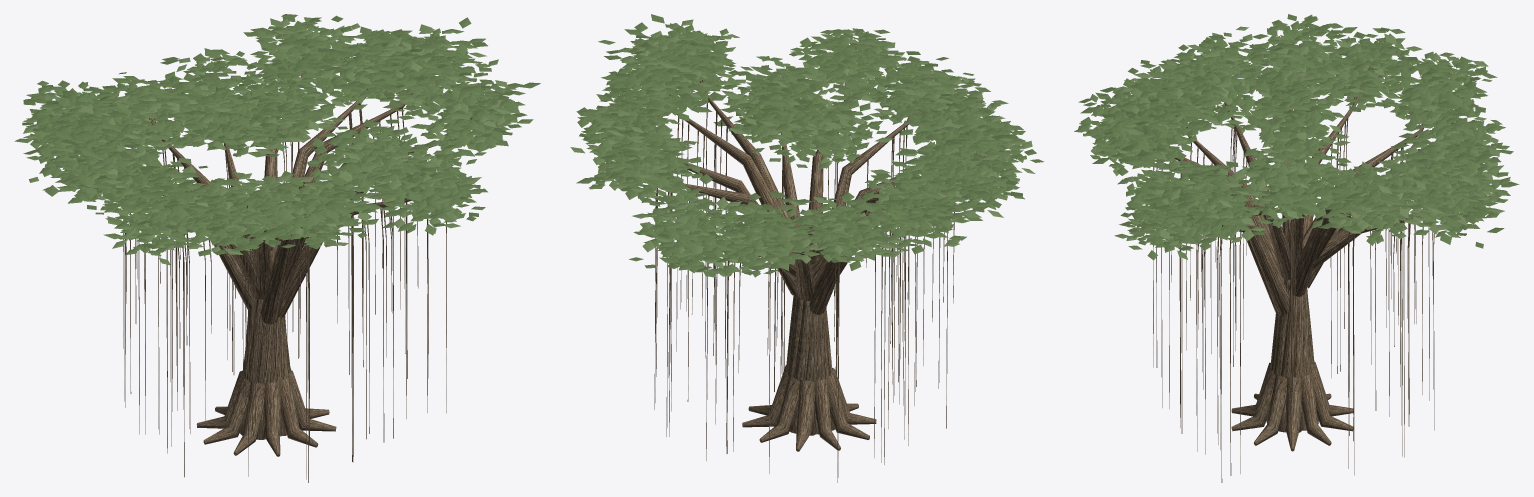
Rendered from prop_banyan_tree.glb.
3 views of the same model, side by side, from view 1: azimuth 30°, elevation 25°; view 2: azimuth 150°, elevation 25°; view 3: azimuth 270°, elevation 25° (orthographic). The views are drawn at different scales.
Visible parts, largest first — view 1: prop_banyan_tree; view 2: prop_banyan_tree; view 3: prop_banyan_tree.
Part boxes in pixels (bbox=[...]): prop_banyan_tree: bbox=[14, 14, 540, 482]; prop_banyan_tree: bbox=[570, 14, 1043, 482]; prop_banyan_tree: bbox=[1074, 14, 1519, 482].
Size of the model in its own units: 15 by 12 by 14.
3 materials, 3 textured.
